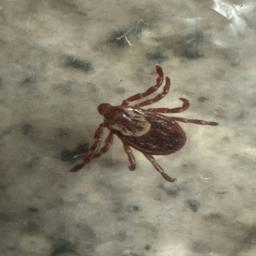Dermacentor variabilis: (50, 152, 196, 256)
